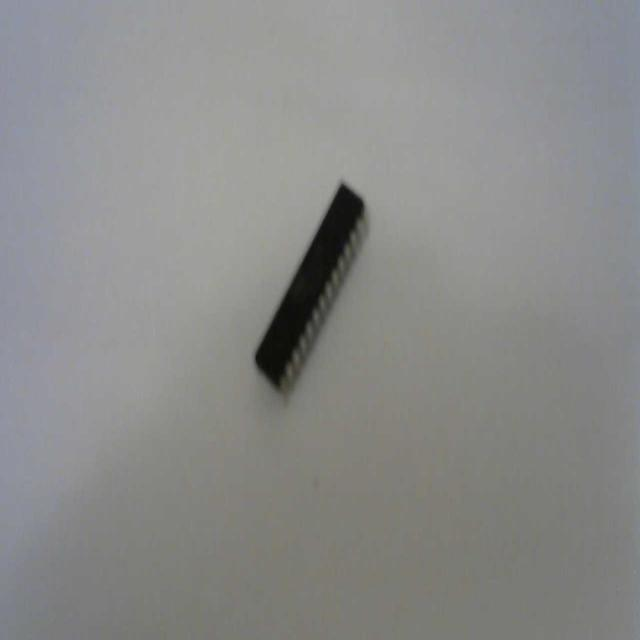atmega: (251, 177, 371, 401)
